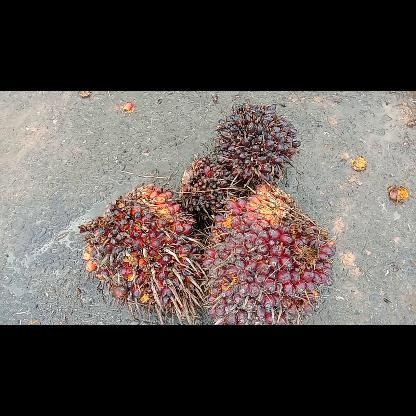TBS abnormal: (210, 99, 304, 193), (176, 156, 244, 226)
TBS masak: (197, 182, 338, 324), (76, 180, 206, 324)
